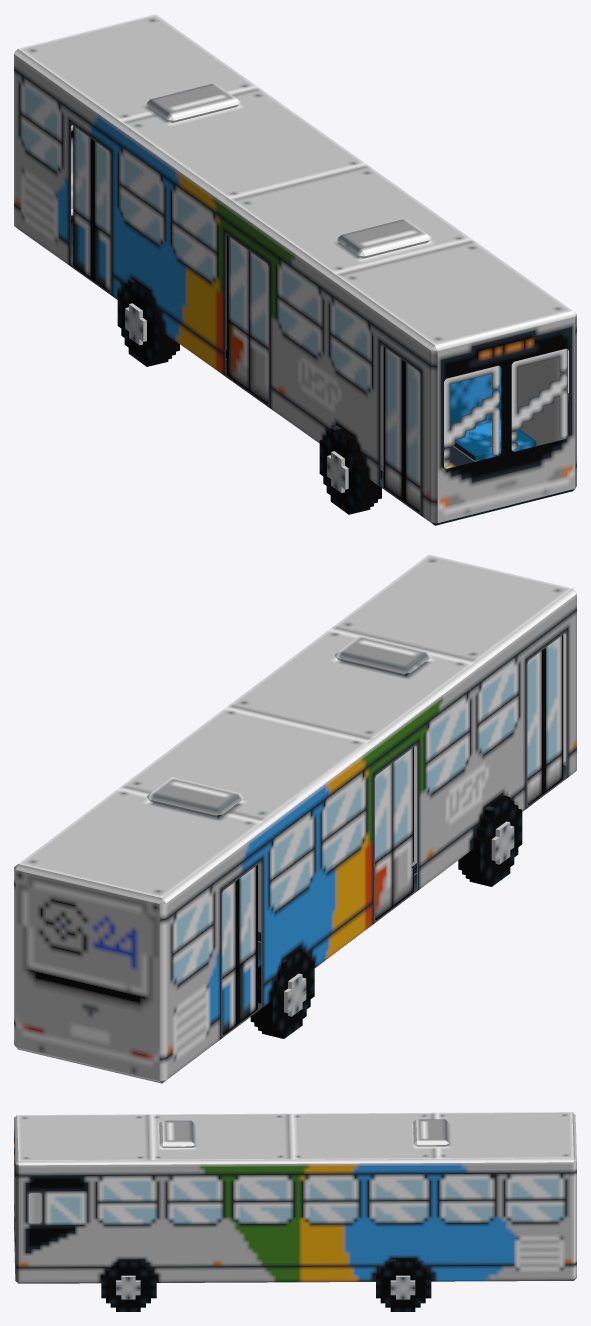
File: busaof.fbx
The picture shows the model from 3 angles, top to bottom: view 1: azimuth 30°, elevation 25°; view 2: azimuth 150°, elevation 25°; view 3: azimuth 270°, elevation 25°; orthographic projection. The views are drawn at different scales.
Parts seen in each view (by area): view 1: Bus, Wheel_3, Wheel_4; view 2: Bus, Wheel_3, Wheel_4; view 3: Bus, Wheel_2, Wheel_1.
Boxes of the visible parts, <box> form: Bus: <box>14,14,576,525</box>; Wheel_3: <box>319,426,381,514</box>; Wheel_4: <box>117,279,179,366</box>; Bus: <box>14,554,576,1083</box>; Wheel_3: <box>458,795,522,886</box>; Wheel_4: <box>250,948,314,1038</box>; Bus: <box>14,1112,576,1283</box>; Wheel_2: <box>376,1259,431,1311</box>; Wheel_1: <box>101,1261,156,1311</box>.
Bounding box in the file's own units: 197 × 265 × 870.
